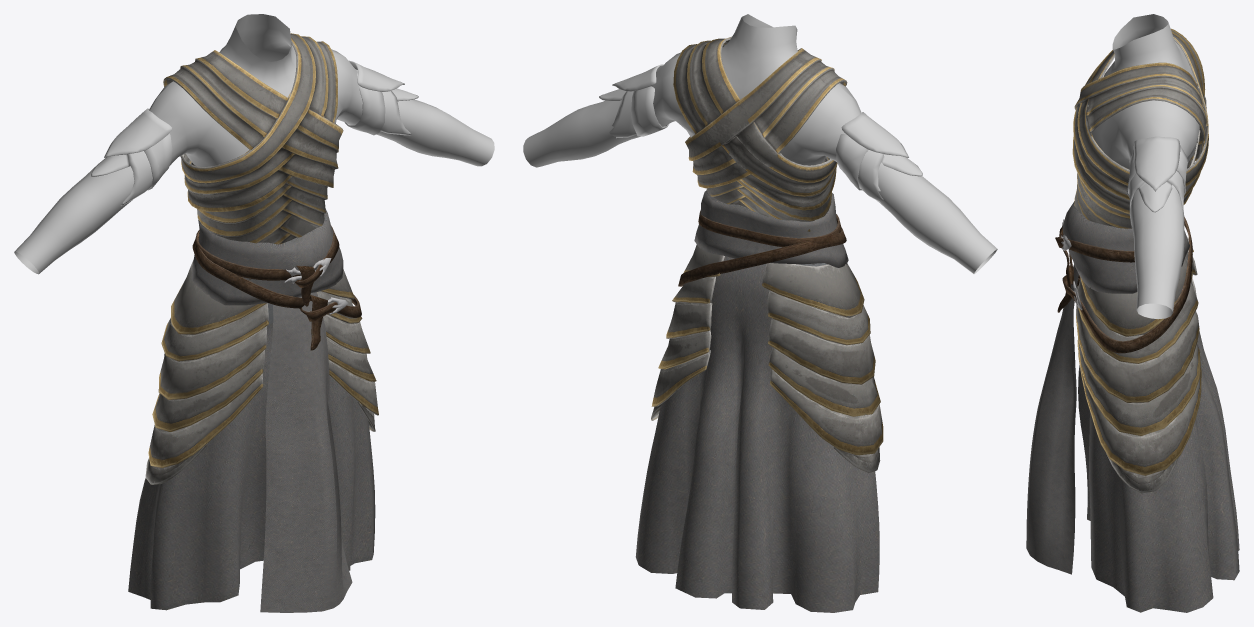
File: rivendell_torso_infantry_tier4_silvergold.fbx
3 views of the same model, side by side, from view 1: azimuth 30°, elevation 25°; view 2: azimuth 150°, elevation 25°; view 3: azimuth 270°, elevation 25° (orthographic). The views are drawn at different scales.
Parts seen in each view (by area): view 1: rivendell_torso_infantry_tier4_silvergold.3, rivendell_torso_infantry_tier4_silvergold.0, rivendell_torso_infantry_tier4_silvergold.1, rivendell_torso_infantry_tier4_silvergold.2, rivendell_torso_infantry_tier4_silvergold.5, rivendell_torso_infantry_tier4_silvergold.4; view 2: rivendell_torso_infantry_tier4_silvergold.0, rivendell_torso_infantry_tier4_silvergold.2, rivendell_torso_infantry_tier4_silvergold.1, rivendell_torso_infantry_tier4_silvergold.5, rivendell_torso_infantry_tier4_silvergold.3, rivendell_torso_infantry_tier4_silvergold.4; view 3: rivendell_torso_infantry_tier4_silvergold.0, rivendell_torso_infantry_tier4_silvergold.2, rivendell_torso_infantry_tier4_silvergold.3, rivendell_torso_infantry_tier4_silvergold.5, rivendell_torso_infantry_tier4_silvergold.1, rivendell_torso_infantry_tier4_silvergold.4.
Boxes of the visible parts, <box> form: rivendell_torso_infantry_tier4_silvergold.3: <box>192,209,361,612</box>; rivendell_torso_infantry_tier4_silvergold.0: <box>128,303,375,610</box>; rivendell_torso_infantry_tier4_silvergold.1: <box>163,33,343,280</box>; rivendell_torso_infantry_tier4_silvergold.2: <box>145,261,378,484</box>; rivendell_torso_infantry_tier4_silvergold.5: <box>14,14,494,274</box>; rivendell_torso_infantry_tier4_silvergold.4: <box>91,60,418,206</box>; rivendell_torso_infantry_tier4_silvergold.0: <box>635,256,879,612</box>; rivendell_torso_infantry_tier4_silvergold.2: <box>651,244,883,472</box>; rivendell_torso_infantry_tier4_silvergold.1: <box>673,36,847,264</box>; rivendell_torso_infantry_tier4_silvergold.5: <box>523,14,997,273</box>; rivendell_torso_infantry_tier4_silvergold.3: <box>678,190,848,286</box>; rivendell_torso_infantry_tier4_silvergold.4: <box>599,64,922,202</box>; rivendell_torso_infantry_tier4_silvergold.0: <box>1078,254,1239,612</box>; rivendell_torso_infantry_tier4_silvergold.2: <box>1076,237,1201,493</box>; rivendell_torso_infantry_tier4_silvergold.3: <box>1026,201,1192,574</box>; rivendell_torso_infantry_tier4_silvergold.5: <box>1091,14,1199,319</box>; rivendell_torso_infantry_tier4_silvergold.1: <box>1072,28,1208,228</box>; rivendell_torso_infantry_tier4_silvergold.4: <box>1126,136,1187,228</box>.
Bounding box in the file's own units: 1.27 × 0.5129 × 1.44.
